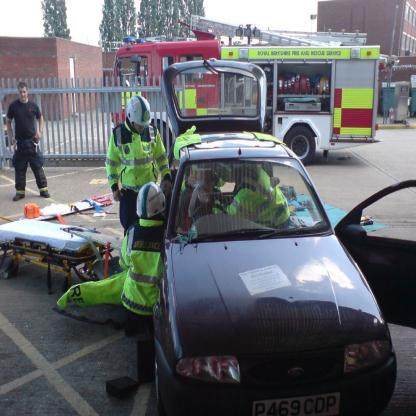Car: (136, 120, 402, 402)
